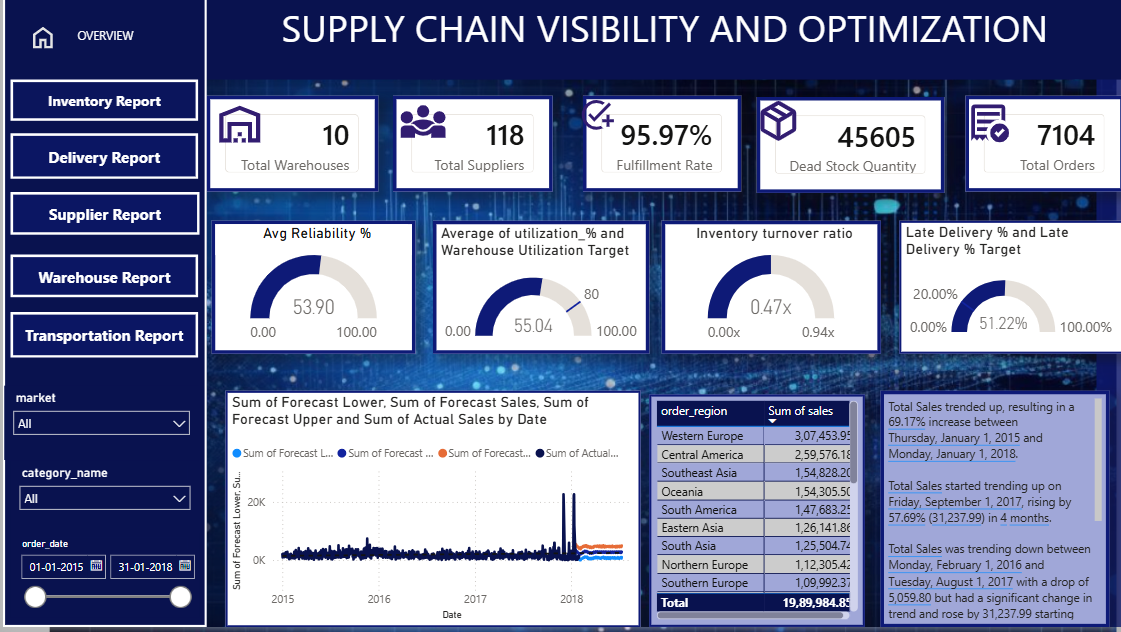

The dashboard page shown, as its layout file describes it:
{"tool":"powerbi","page":{"name":"Page 7","canvas":[1280,720],"ordinal":6},"visuals":[{"type":"cardVisual","fields":{"Data":["Fact_table.Total Orders"]},"box":[1099.7,113.2,180.7,109.8],"z":0},{"type":"cardVisual","fields":{"Data":["Fact_table.Fulfillment Rate"]},"box":[662.2,113.2,180.7,109.8],"z":1000},{"type":"cardVisual","fields":{"Data":["Dim_Warehouse.Total Warehouses"]},"box":[233.1,113.2,195.9,109.8],"z":2000},{"type":"cardVisual","fields":{"Data":["Fact_table.Total Suppliers"]},"box":[446,113.2,182.4,109.8],"z":3000},{"type":"cardVisual","fields":{"Data":["Fact_table.Dead Stock Quantity"]},"box":[861.5,114.9,214.5,109.8],"z":4000},{"type":"gauge","fields":{"Y":["Fact_table.Late Delivery %"],"TargetValue":["Fact_table.Late Delivery % Target"]},"box":[1023.7,255.1,256.8,152],"z":5000},{"type":"lineChart","fields":{"Y":["Sum(Prophet_Sales_Forecast.Forecast Lower)","Sum(Prophet_Sales_Forecast.Forecast Sales)","Sum(Prophet_Sales_Forecast.Forecast Upper)","Sum(Prophet_Sales_Forecast.Actual Sales)"],"Category":["Prophet_Sales_Forecast.Date"]},"box":[253.7,449.3,474.7,270.3],"z":6000},{"type":"gauge","fields":{"Y":["Avg(Dim_Warehouse.utilization_%)"],"TargetValue":["Fact_table.Warehouse Utilization Target"]},"box":[491.6,255.1,247,152],"z":7000},{"type":"gauge","fields":{"Y":["Fact_table.Avg Reliability %"]},"box":[238.2,255.1,233.1,152],"z":8000},{"type":"gauge","fields":{"Y":["Fact_table.Inventory turnover ratio"]},"box":[753.4,255.1,250,152],"z":9000},{"type":"tableEx","fields":{"Values":["Fact_table.order_region","Sum(Fact_table.sales)"]},"box":[738.2,454.4,246.6,265.2],"z":10000},{"type":"textbox","box":[1003.4,449.3,261.8,270.3],"z":11000},{"type":"textbox","box":[233.1,0,1047.3,94.6],"z":12000},{"type":"textbox","box":[0,0,233.1,719.6],"z":13000},{"type":"slicer","fields":{"Values":["Dim_location.market"]},"box":[1.7,444.4,222.2,84.6],"z":14000},{"type":"slicer","fields":{"Values":["Fact_table.category_name"]},"box":[8.3,530.6,215.6,82.9],"z":15000},{"type":"slicer","fields":{"Values":["Fact_table.order_date"]},"box":[8.3,613.5,215.6,96.2],"z":16000},{"type":"actionButton","box":[8.4,94.6,214.5,47.3],"z":17000},{"type":"actionButton","box":[8.4,155.4,214.5,52.4],"z":18000},{"type":"actionButton","box":[8.4,223,216.2,49],"z":19000},{"type":"actionButton","box":[8.4,359.8,214.5,52.4],"z":20000},{"type":"actionButton","box":[8.4,293.9,214.5,49],"z":21000},{"type":"image","box":[0,29.8,91.2,33.2],"z":22000},{"type":"image","box":[238.2,116.6,64.2,55.7],"z":23000},{"type":"image","box":[446,114.9,69.3,55.7],"z":24000},{"type":"image","box":[648.7,114.9,59.1,40.5],"z":25000},{"type":"image","box":[841.2,114.9,89.5,54.1],"z":26000},{"type":"image","box":[1099.7,104.7,52.4,76],"z":27000},{"type":"textbox","box":[79.6,29.8,104.5,33.2],"z":28000}]}

Visuals, with their boxes in screenshot pixels (x1, y1, x2, y2):
cardVisual - Fact_table.Total Orders: 953,95,1109,190
cardVisual - Fact_table.Fulfillment Rate: 575,95,731,190
cardVisual - Dim_Warehouse.Total Warehouses: 204,95,373,190
cardVisual - Fact_table.Total Suppliers: 388,95,546,190
cardVisual - Fact_table.Dead Stock Quantity: 747,96,932,191
gauge - Fact_table.Late Delivery % x Fact_table.Late Delivery % Target: 887,217,1109,349
lineChart - Sum(Prophet_Sales_Forecast.Forecast Lower) x Sum(Prophet_Sales_Forecast.Forecast Sales): 222,385,632,619
gauge - Avg(Dim_Warehouse.utilization_%) x Fact_table.Warehouse Utilization Target: 428,217,641,349
gauge - Fact_table.Avg Reliability %: 209,217,410,349
gauge - Fact_table.Inventory turnover ratio: 654,217,870,349
tableEx - Fact_table.order_region x Sum(Fact_table.sales): 640,390,853,619
textbox: 870,385,1096,619
textbox: 204,0,1109,79
textbox: 3,0,204,619
slicer - Dim_location.market: 4,381,196,454
slicer - Fact_table.category_name: 10,455,196,527
slicer - Fact_table.order_date: 10,527,196,610
actionButton: 10,79,195,120
actionButton: 10,131,195,177
actionButton: 10,190,197,232
actionButton: 10,308,195,353
actionButton: 10,251,195,293
image: 3,23,82,51
image: 209,98,264,146
image: 388,96,448,144
image: 563,96,614,131
image: 729,96,807,143
image: 953,88,998,153
textbox: 72,23,162,51
